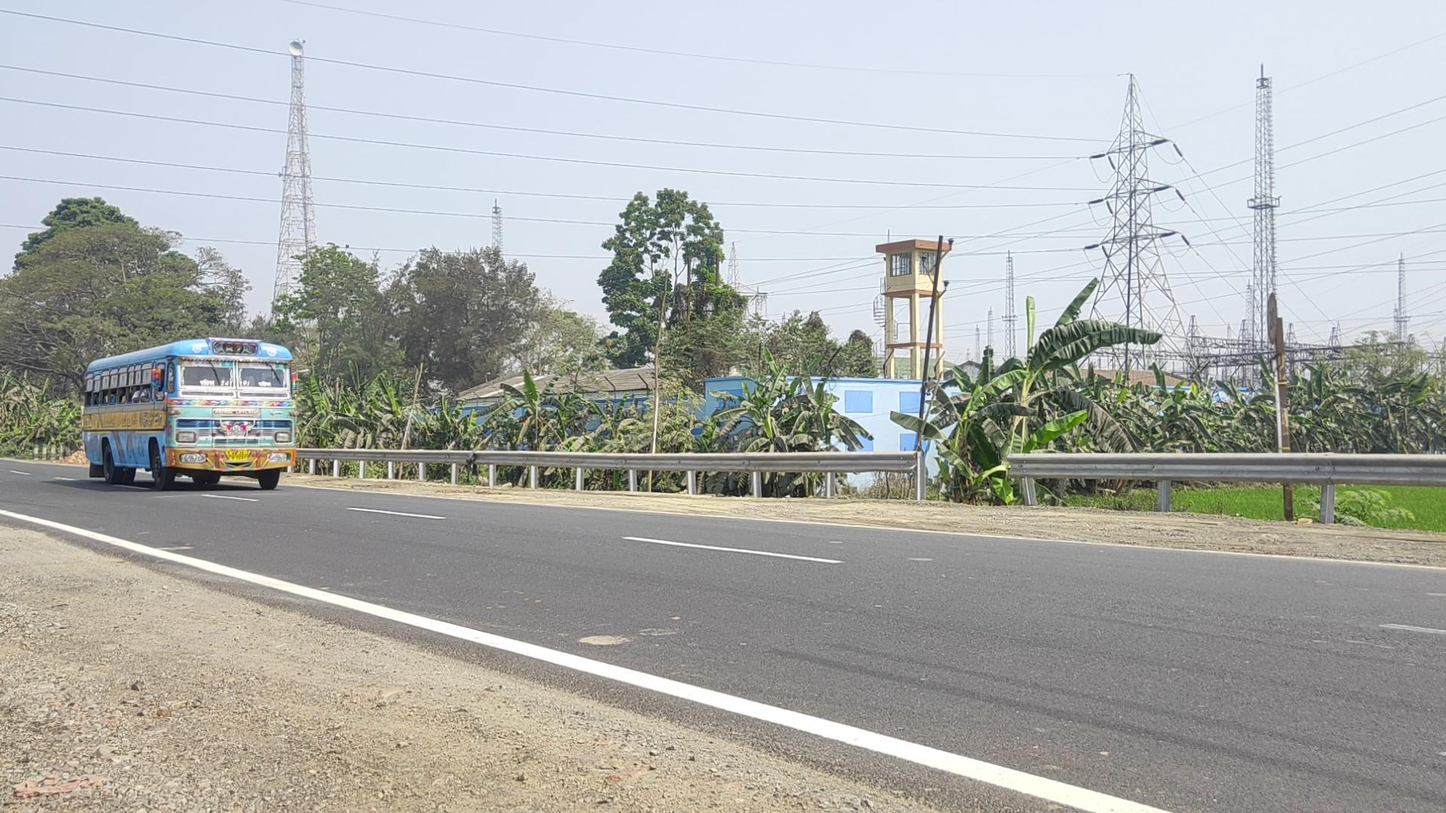Bus: (82, 338, 299, 490)
